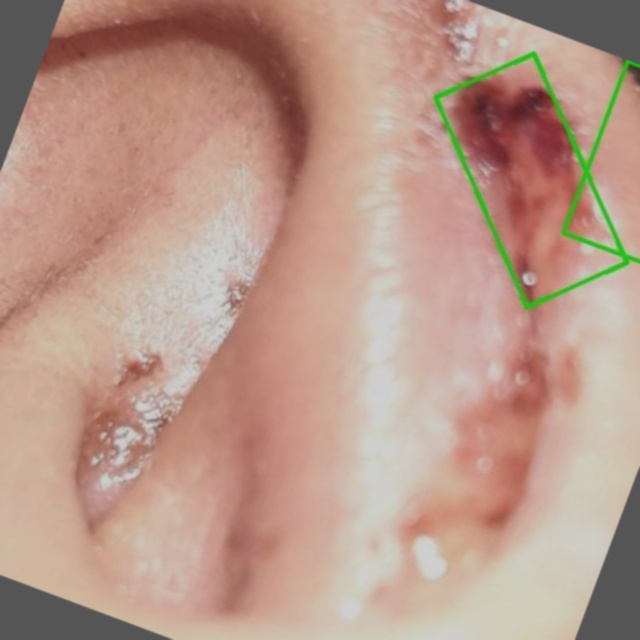Eczema: (435, 53, 627, 306)
